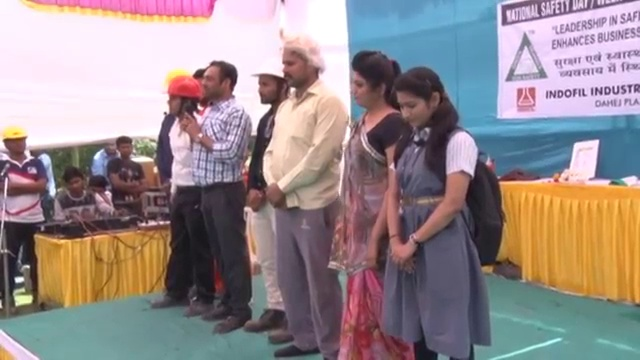helmet: (156, 75, 202, 101), (250, 57, 285, 81), (0, 123, 29, 144)
helmet_off: (389, 64, 452, 135), (350, 49, 399, 111), (273, 36, 326, 86), (198, 60, 237, 109), (59, 166, 86, 196), (88, 176, 108, 198), (116, 139, 134, 162), (102, 139, 119, 159)
helmet_on: (156, 76, 200, 123), (250, 57, 285, 105), (0, 124, 35, 164)
person: (384, 60, 505, 360), (262, 31, 349, 360), (331, 48, 407, 360), (179, 60, 256, 334), (241, 55, 296, 345), (149, 75, 212, 314), (0, 122, 53, 321), (56, 165, 129, 223), (106, 140, 148, 207), (90, 140, 119, 178)
